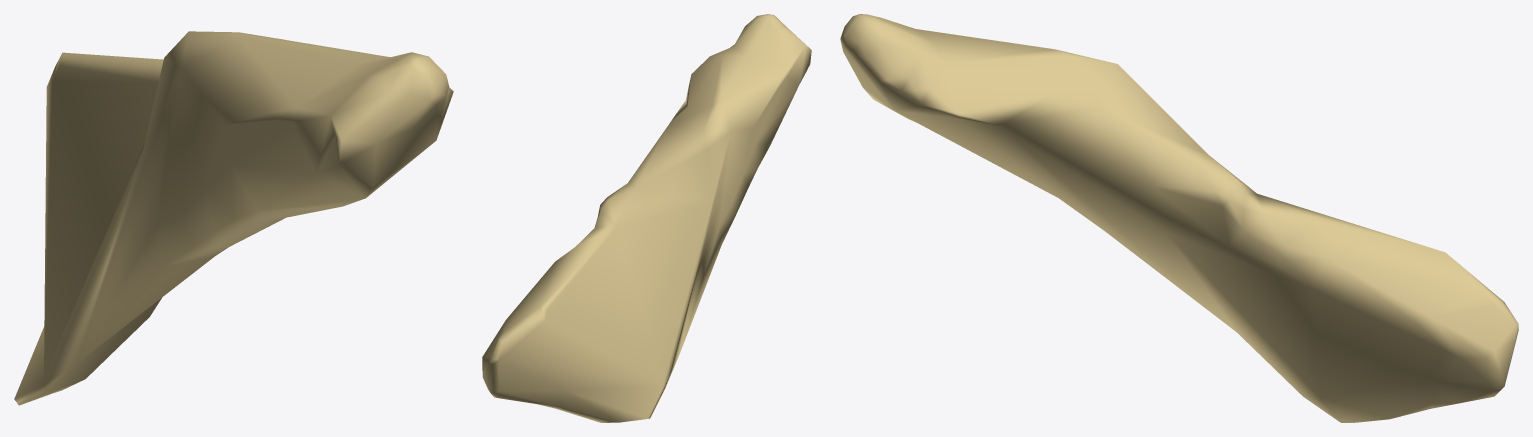
3 views of the same model, side by side, from view 1: azimuth 30°, elevation 25°; view 2: azimuth 150°, elevation 25°; view 3: azimuth 270°, elevation 25° (orthographic). The views are drawn at different scales.
Parts seen in each view (by area): view 1: 左侧鼻骨; view 2: 左侧鼻骨; view 3: 左侧鼻骨.
Part boxes in pixels (x1=…): 左侧鼻骨: x1=14, y1=31, x2=453, y2=405; 左侧鼻骨: x1=482, y1=14, x2=811, y2=422; 左侧鼻骨: x1=840, y1=14, x2=1518, y2=422.
Bounding box in the file's own units: 0.0124 × 0.0308 × 0.0462.
